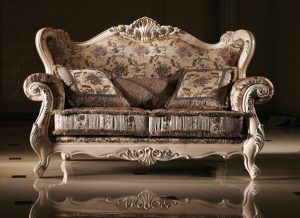Carving Chair: (31, 23, 274, 180)
